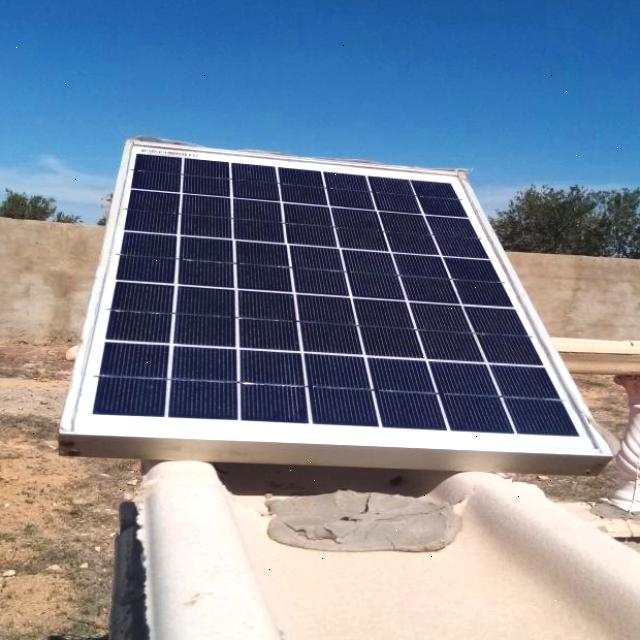Normal Solar Panel: (66, 140, 608, 454)
